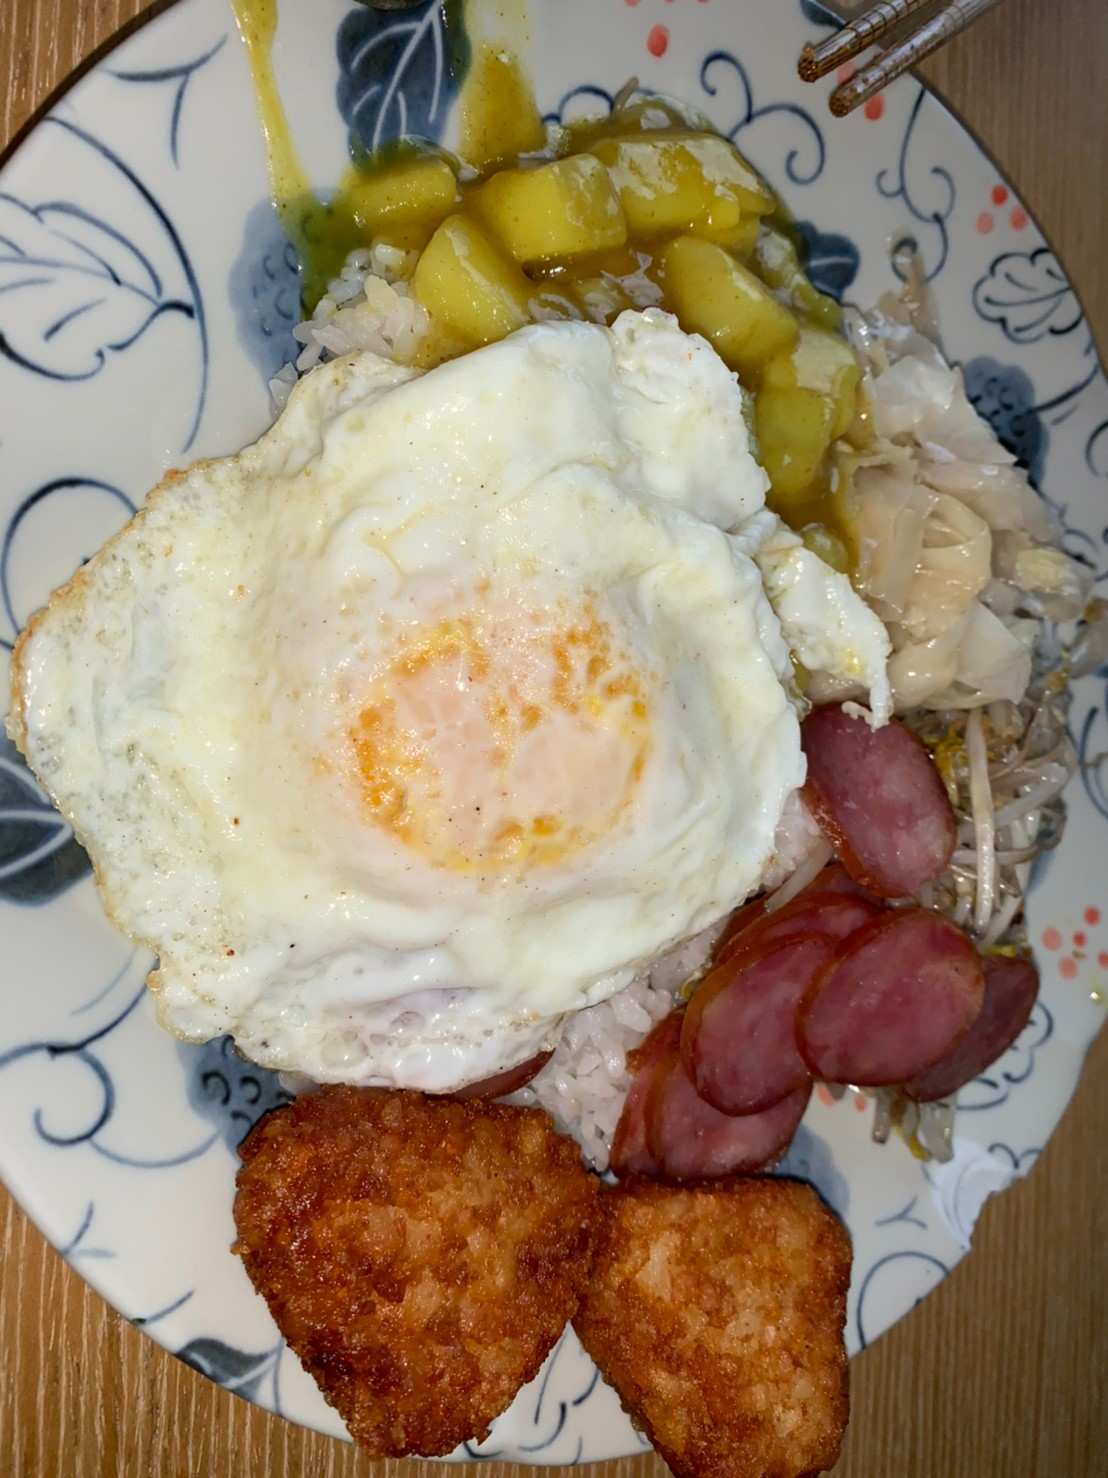chinese_cabbage: (851, 357, 1064, 696)
chinese_sausage: (676, 692, 1020, 1191)
curry: (416, 125, 850, 340)
fried_eggs: (28, 312, 805, 1097)
mung_bean_sprouts: (942, 704, 1054, 936)
rice: (542, 987, 649, 1157), (307, 260, 412, 364)
triangle_hash_brown: (229, 1087, 860, 1478)
